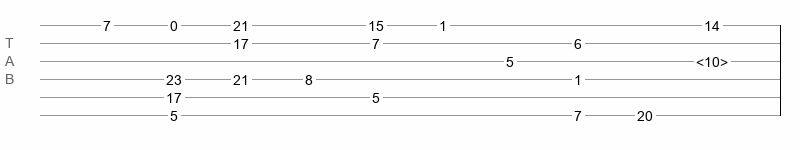0: (170, 18, 178, 28)
1: (439, 18, 447, 28), (574, 72, 582, 82)
14: (704, 18, 720, 28)
15: (368, 18, 384, 28)
17: (166, 90, 182, 100), (233, 36, 249, 46)
20: (637, 108, 653, 118)
21: (233, 72, 249, 82), (233, 18, 249, 28)
23: (166, 72, 182, 82)
5: (170, 108, 178, 118), (372, 90, 380, 100), (506, 54, 514, 64)
6: (574, 36, 582, 46)
7: (103, 18, 111, 28), (372, 36, 380, 46), (574, 108, 582, 118)
8: (305, 72, 313, 82)
harmonic: (696, 54, 728, 64)
